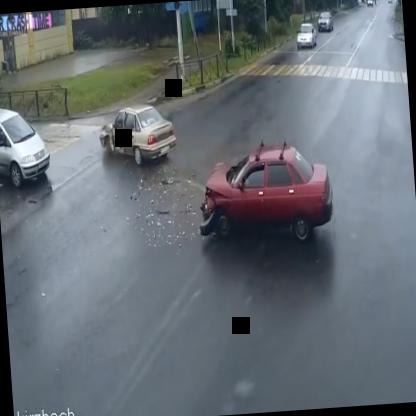accident: (195, 133, 332, 245), (98, 102, 182, 172)
